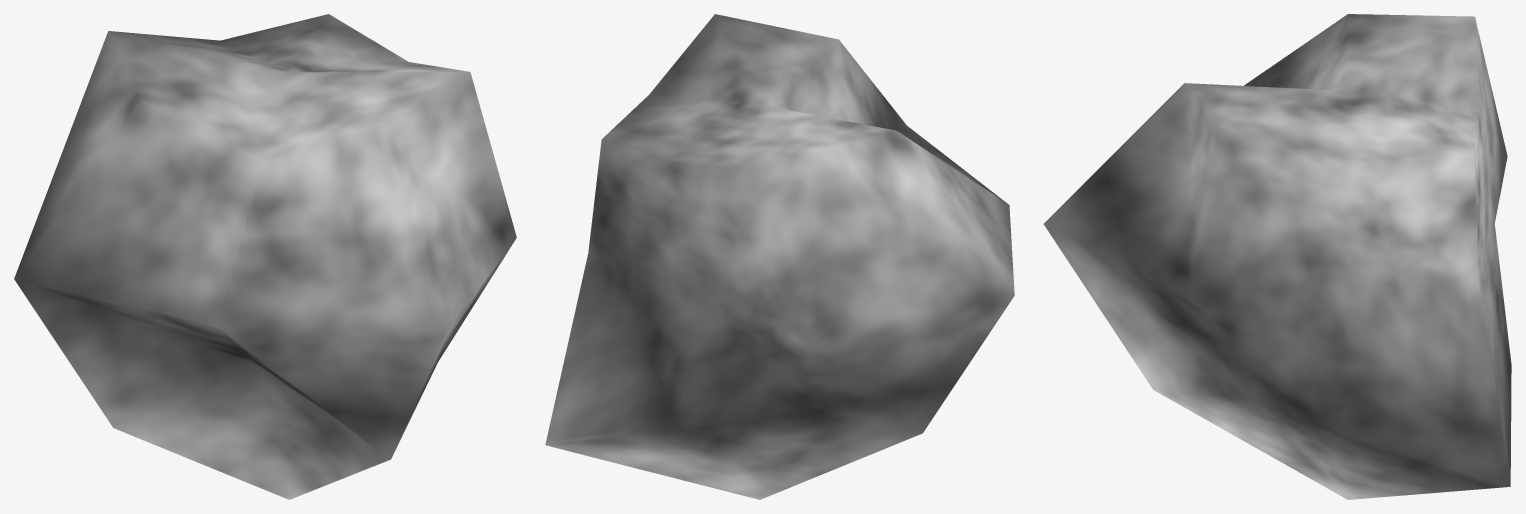
File: asteroid1.obj
The picture shows the model from 3 angles, left to right: view 1: azimuth 30°, elevation 25°; view 2: azimuth 150°, elevation 25°; view 3: azimuth 270°, elevation 25°; orthographic projection. The views are drawn at different scales.
Parts seen in each view (by area): view 1: asteroid_01.009; view 2: asteroid_01.009; view 3: asteroid_01.009.
Part boxes in pixels (x1,y1,x2,y2): asteroid_01.009: (14,14,516,499); asteroid_01.009: (545,14,1014,499); asteroid_01.009: (1043,14,1511,499).
Size of the model in its own units: 1.36 by 1.38 by 1.36.
Materials: 1 (1 with a texture image).
